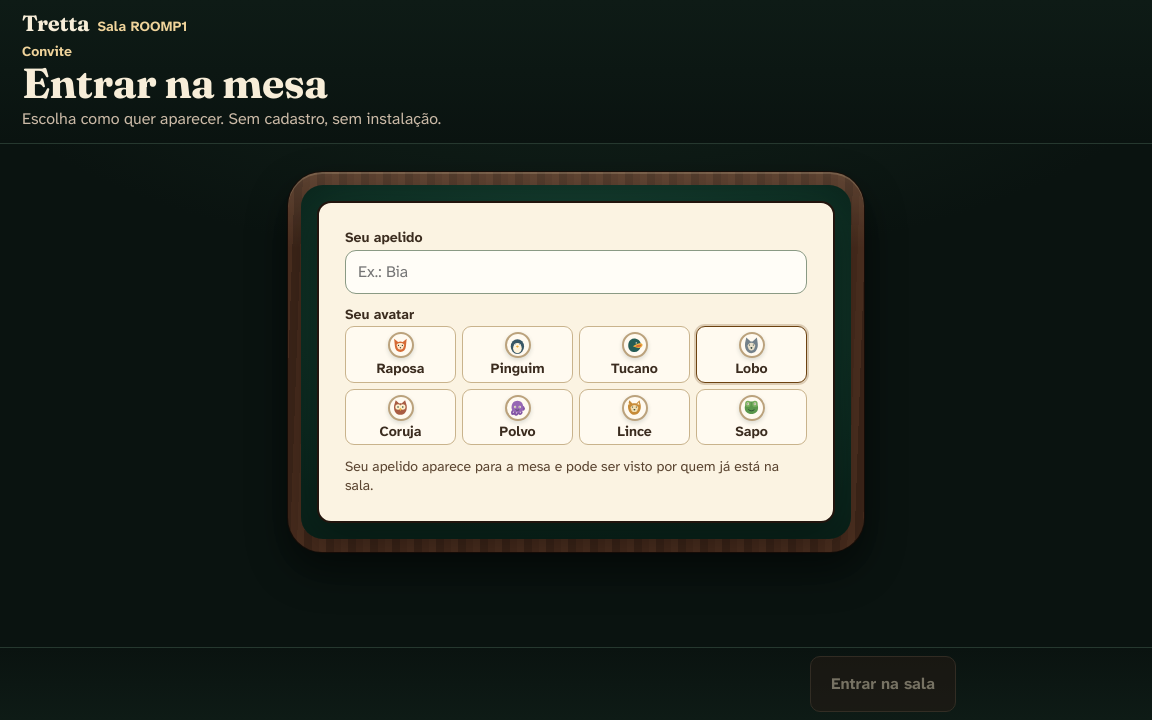
Test case: recusa da mesa de treino na página da sala › sem credencial, o formulário cai na recusa e nada é criado nem repetido
The width and height of the screenshot is (1152, 720).
Type "Bia" into the field with test id "join-name-input" at coordinates (576, 272), box [345,250,807,294]
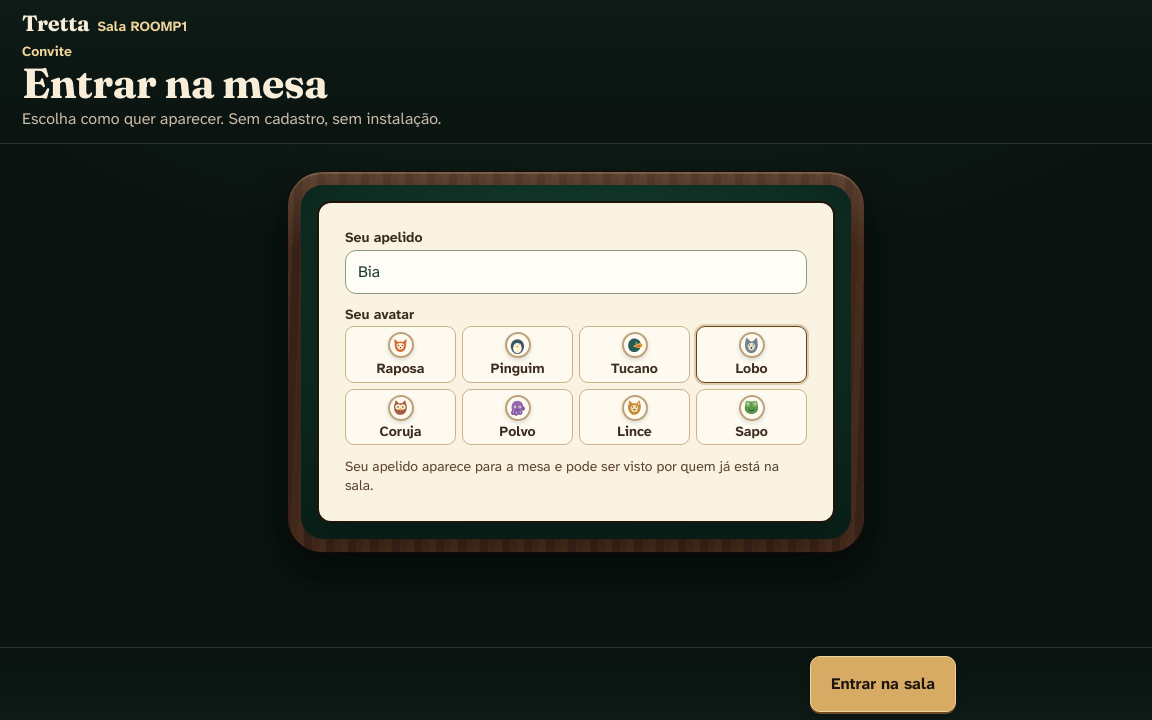
Click the button with test id "join-room-button" at coordinates (883, 684), box [810,656,956,712]
Wait 30000 ms
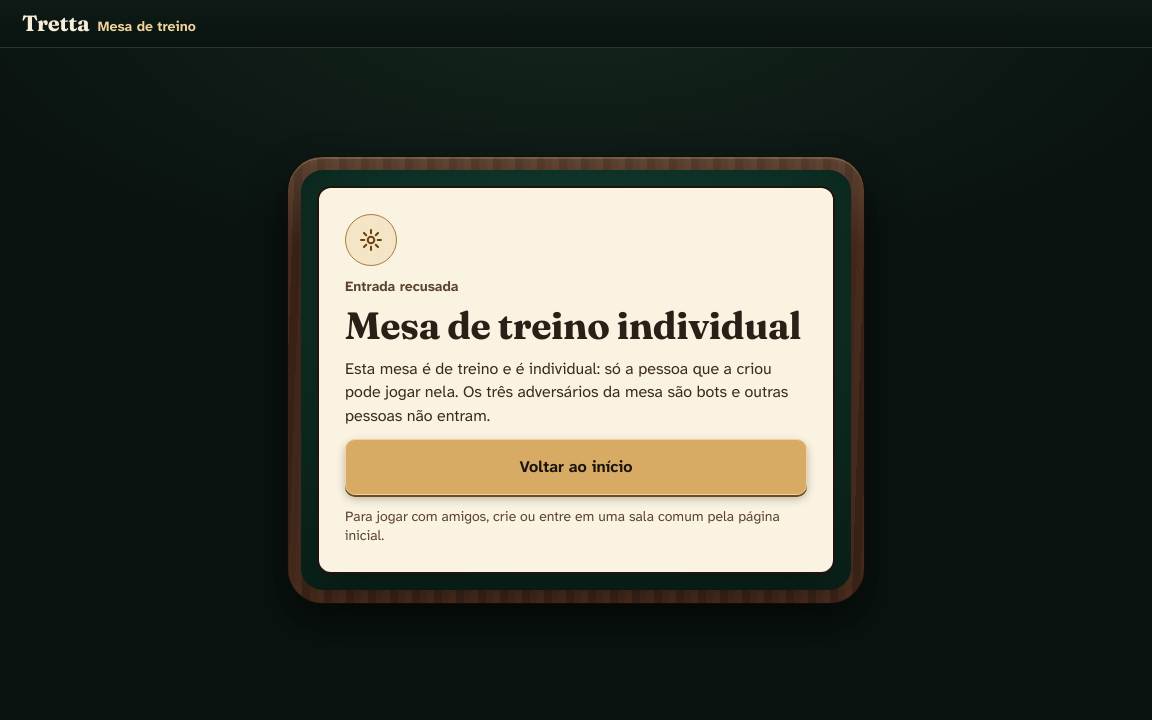
expect the element with test id "training-entry-refused" is shown: met, box [317,186,835,574]
expect the field with test id "join-name-input" is gone: met
